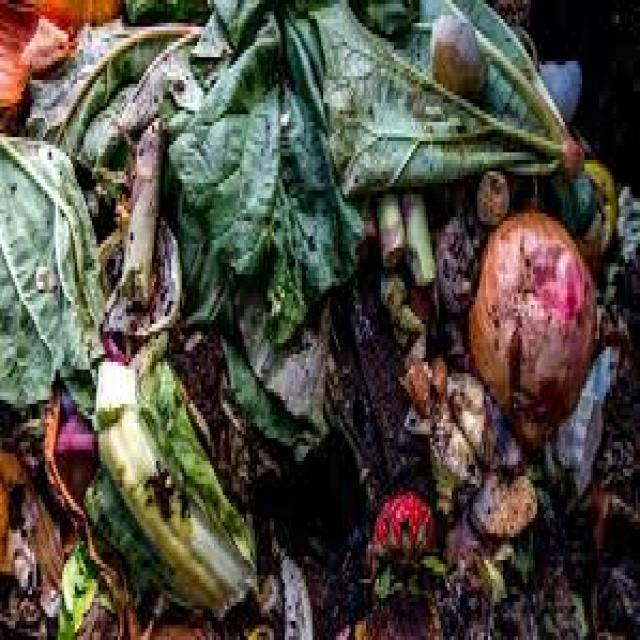food_waste: (38, 81, 616, 595)
